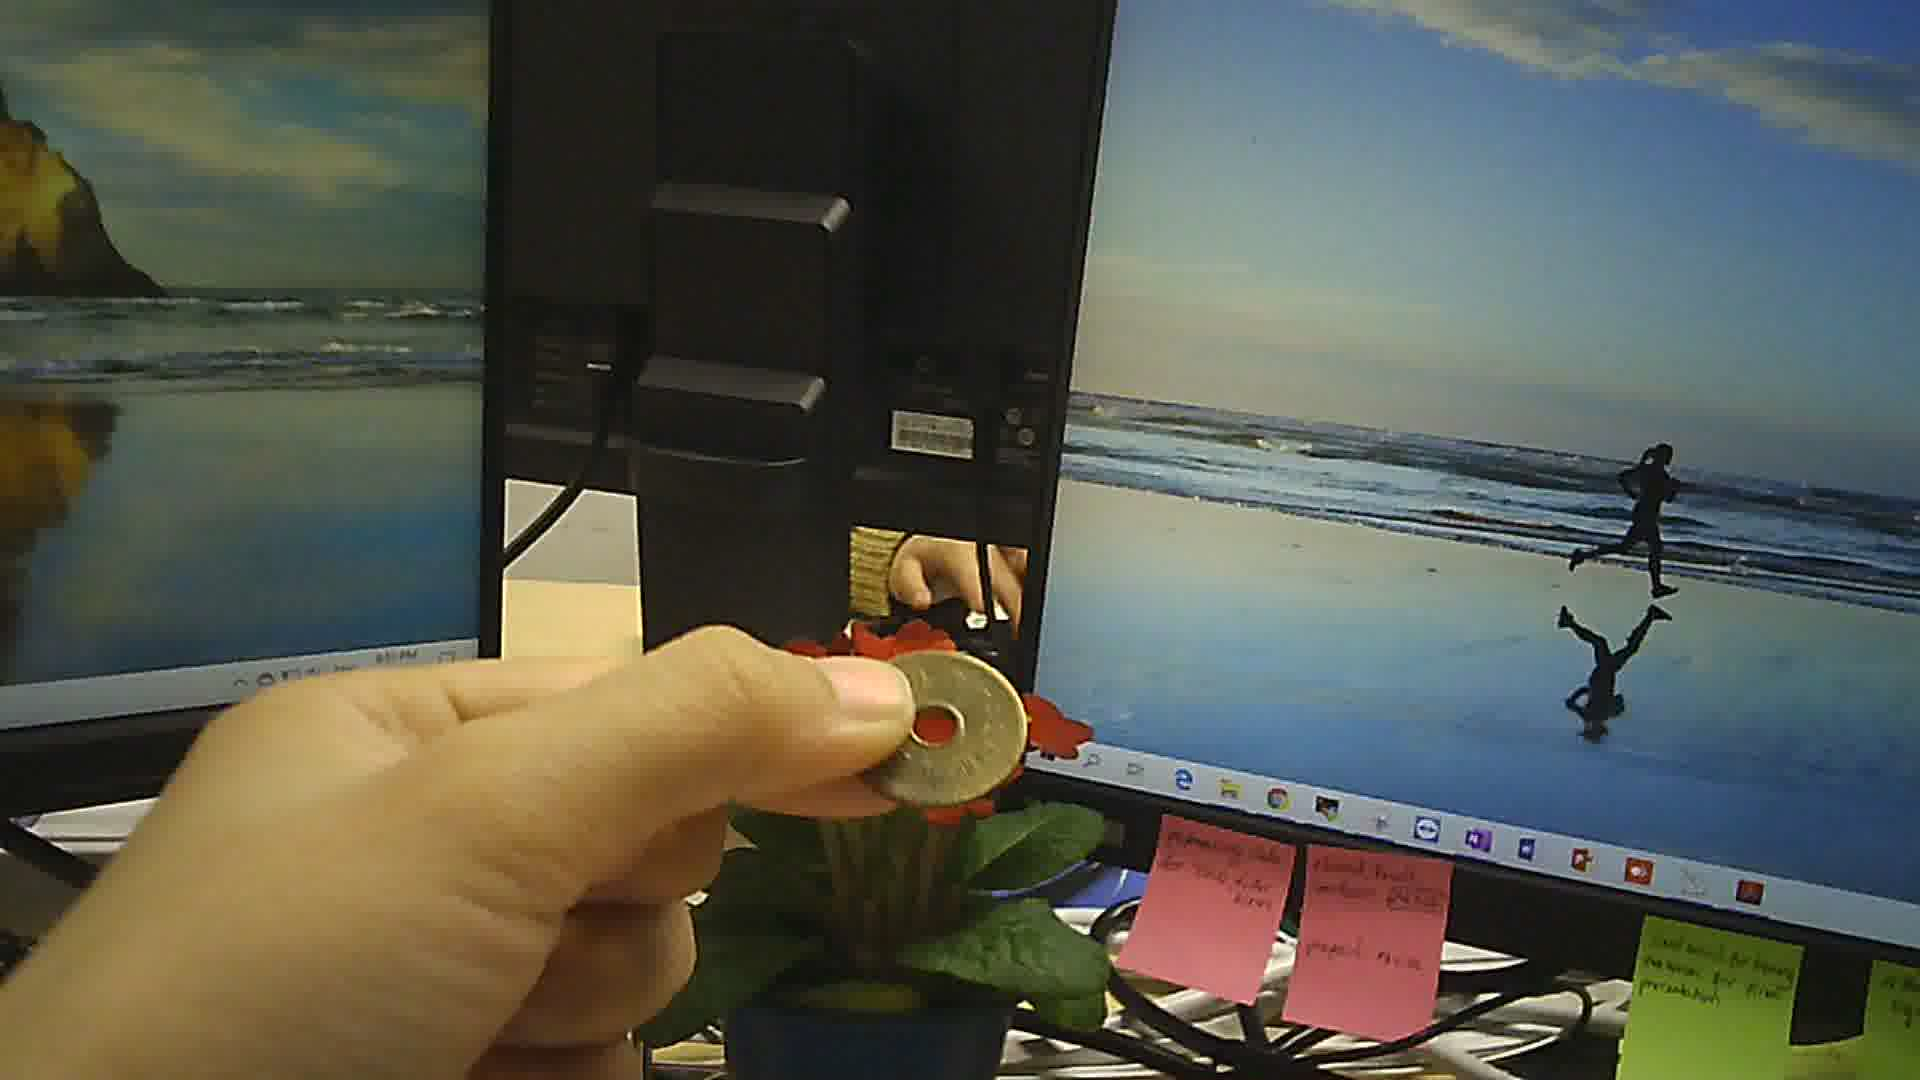5 Yen: (843, 644, 1031, 822)
